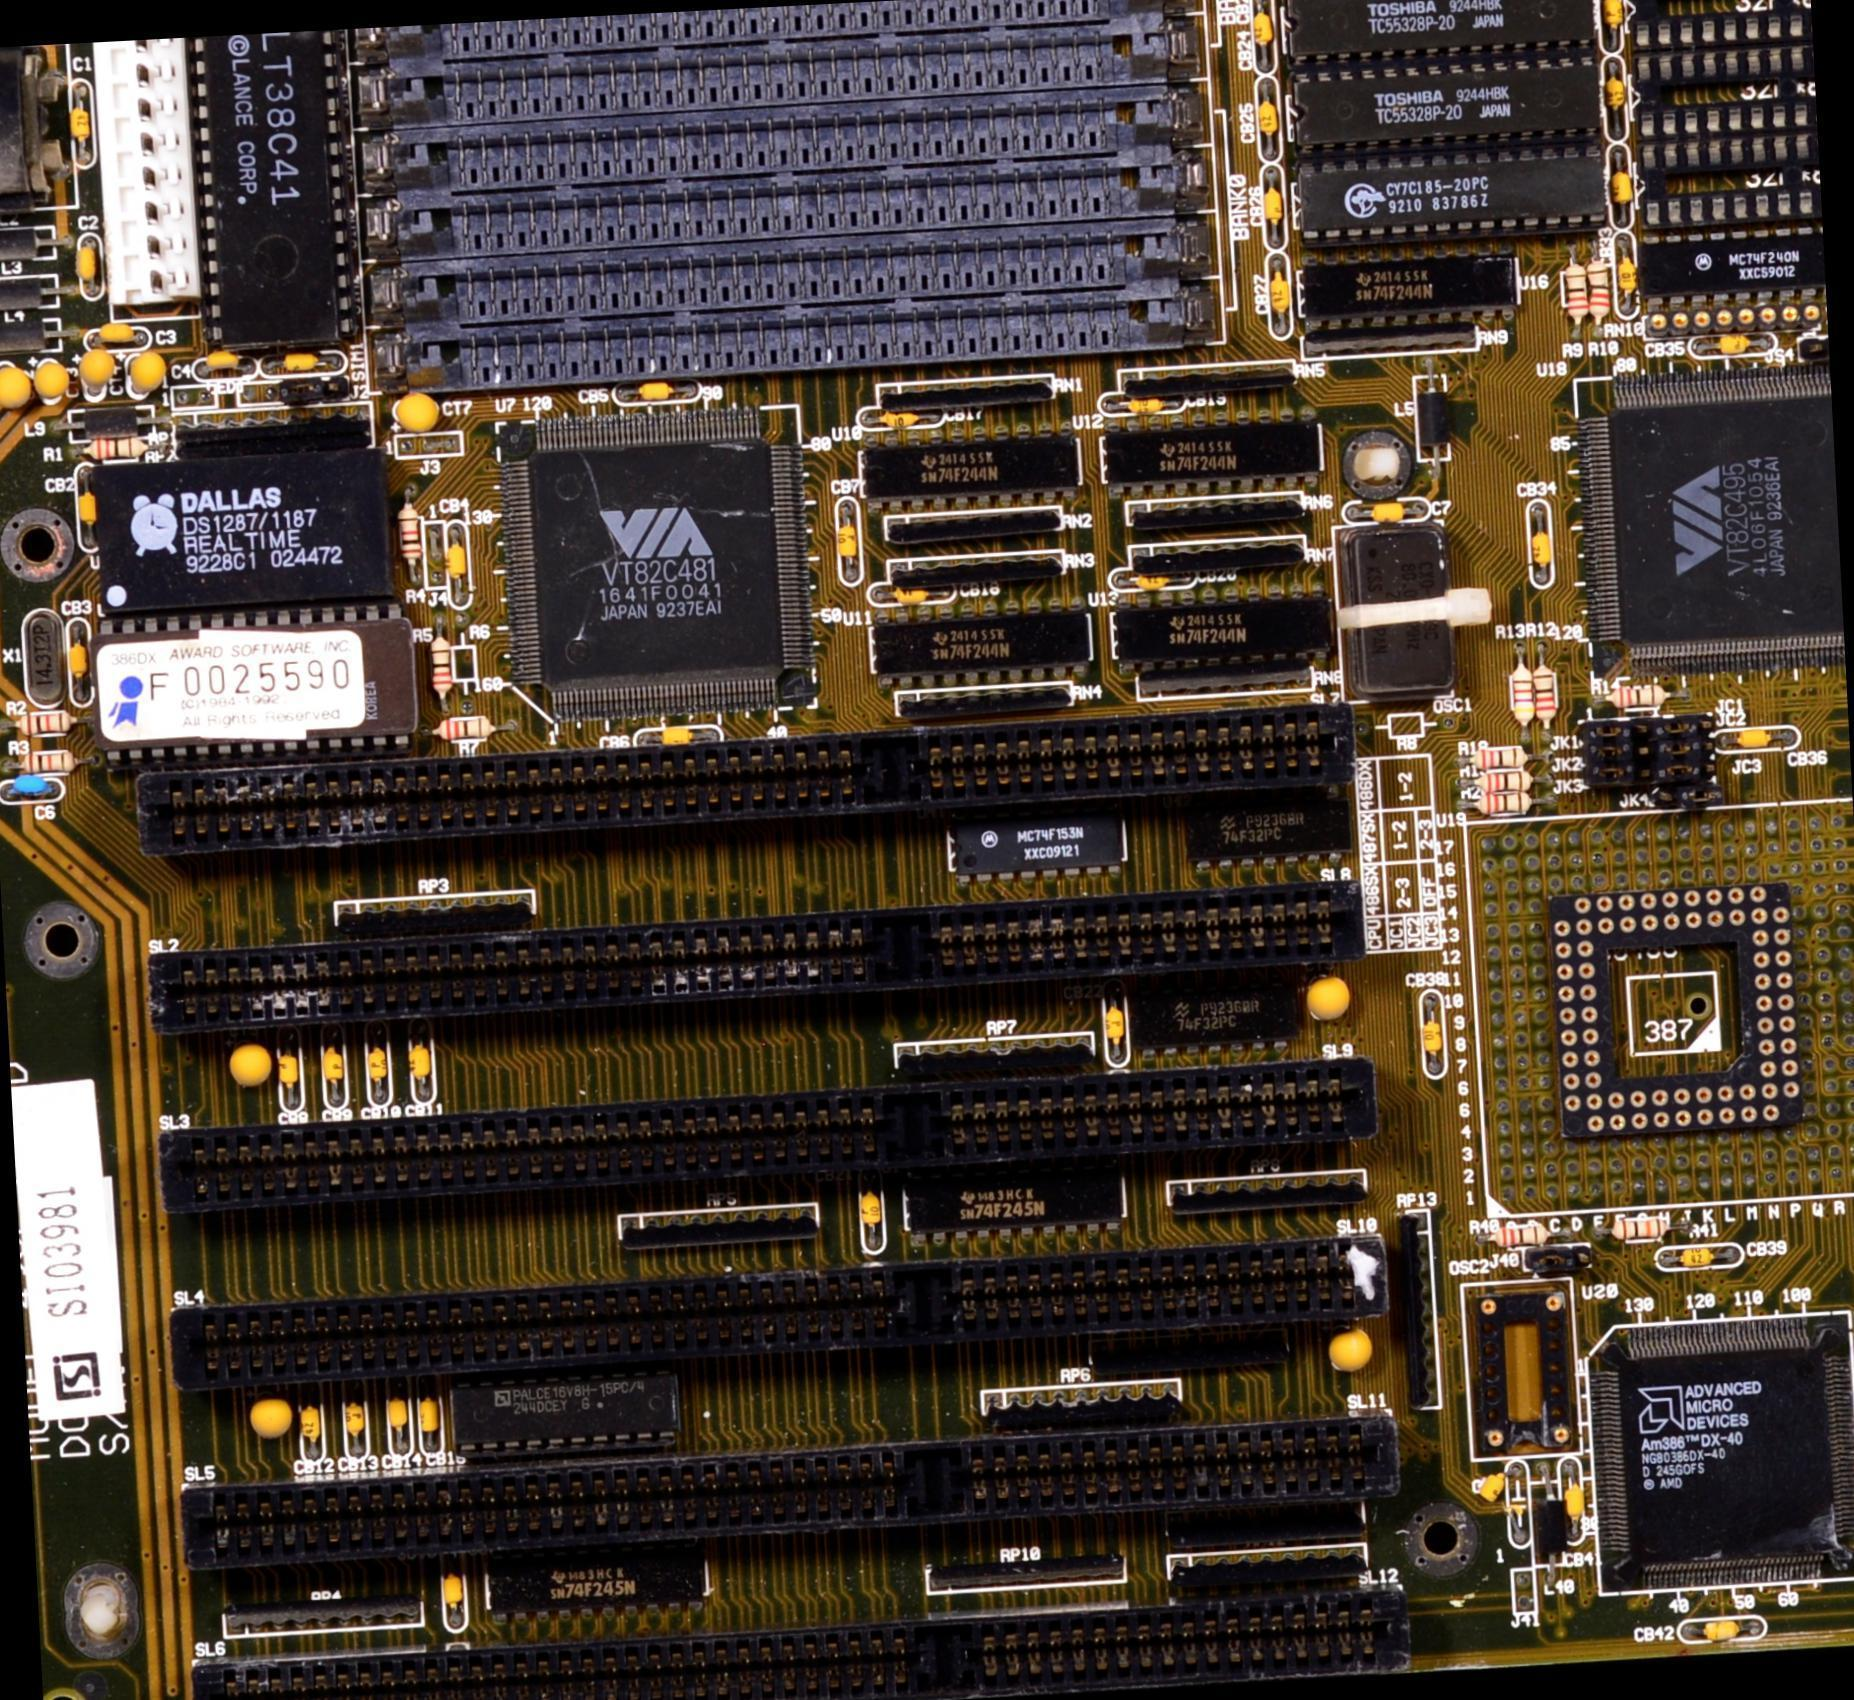Capacitor: (1520, 511, 1565, 584), (828, 497, 867, 579), (1347, 493, 1422, 533), (438, 522, 477, 599), (1421, 989, 1456, 1074), (1255, 169, 1298, 234), (617, 377, 703, 410), (336, 1393, 376, 1461), (378, 1391, 417, 1461), (269, 340, 333, 382), (407, 1389, 445, 1454), (403, 1036, 440, 1108), (362, 1040, 395, 1114), (1110, 386, 1177, 423), (1677, 1617, 1754, 1648), (846, 1188, 892, 1240), (5, 768, 56, 813), (314, 1039, 347, 1106), (1099, 990, 1131, 1062), (1250, 0, 1280, 69), (200, 345, 250, 387), (295, 1400, 330, 1460), (1256, 264, 1294, 318), (1664, 1244, 1739, 1271), (272, 1039, 303, 1100), (1726, 724, 1779, 758), (1123, 563, 1182, 594), (435, 1566, 466, 1623), (648, 719, 701, 753), (1553, 1470, 1583, 1529), (74, 235, 101, 290), (66, 638, 93, 688), (98, 312, 150, 338), (1600, 71, 1627, 119), (1609, 163, 1634, 211), (71, 488, 100, 526), (1253, 97, 1280, 136), (1599, 0, 1626, 37)
Connector: (353, 82, 1213, 191), (172, 1267, 920, 1386), (364, 286, 1215, 390), (360, 221, 1221, 323), (356, 155, 1207, 256), (177, 1447, 943, 1559), (344, 26, 1205, 125), (164, 1097, 914, 1204), (142, 738, 896, 845), (161, 913, 891, 1021), (192, 1621, 943, 1699), (350, 0, 1205, 58), (942, 1417, 1402, 1523), (931, 1239, 1381, 1344), (916, 1067, 1380, 1165), (897, 710, 1348, 805), (946, 1598, 1399, 1689), (902, 889, 1355, 979), (95, 38, 198, 310), (0, 44, 73, 216), (1639, 98, 1817, 143), (1633, 8, 1812, 51), (1634, 46, 1814, 89), (1641, 138, 1819, 174), (1644, 192, 1821, 230), (403, 1036, 436, 1102)
IC: (499, 404, 818, 717), (1569, 364, 1845, 676), (1585, 1310, 1853, 1596), (100, 604, 422, 766), (196, 30, 355, 347), (91, 460, 401, 616), (1281, 59, 1595, 157), (1299, 165, 1610, 238), (904, 1159, 1132, 1253), (1281, 0, 1607, 65), (1109, 590, 1334, 683), (871, 602, 1102, 690), (855, 429, 1088, 513), (1098, 421, 1326, 505), (449, 1370, 667, 1455), (1301, 249, 1523, 331), (485, 1544, 712, 1621), (1124, 979, 1309, 1064), (1630, 231, 1825, 310), (1182, 794, 1358, 871), (949, 804, 1129, 876)
Resistor: (1556, 255, 1597, 342), (1472, 785, 1549, 829), (392, 496, 432, 581), (1481, 1212, 1558, 1254), (1461, 733, 1531, 776), (78, 431, 152, 471), (425, 628, 461, 712), (62, 89, 102, 161), (430, 707, 494, 748), (18, 706, 84, 742), (1589, 254, 1619, 338), (20, 740, 79, 779), (1605, 1210, 1672, 1243), (1468, 767, 1540, 798), (1508, 662, 1537, 733), (1611, 682, 1671, 715), (1534, 662, 1562, 730)
